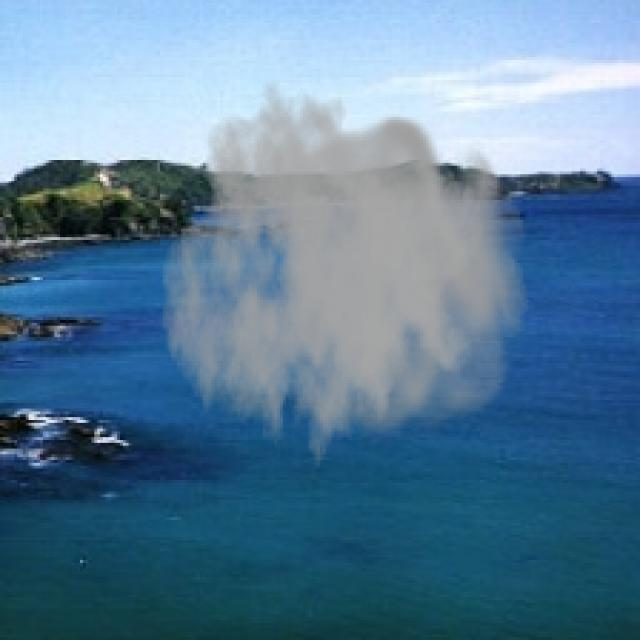Smoke: (160, 80, 529, 486)
